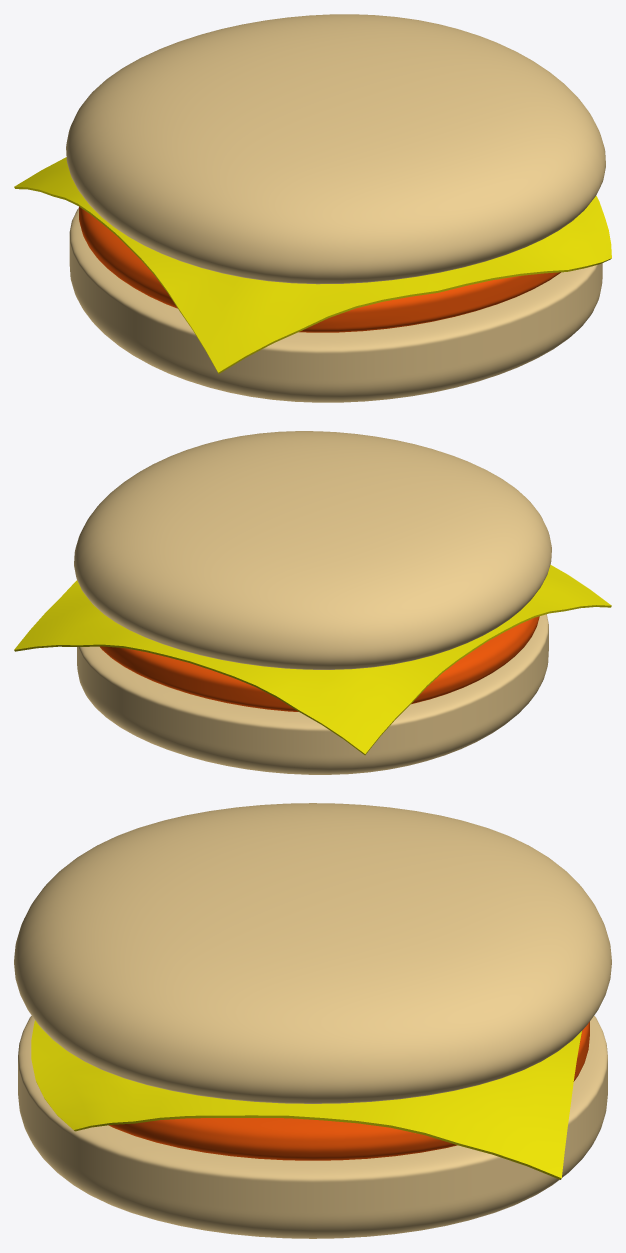
File: burger.glb
3 renders of one model, top to bottom at view 1: azimuth 30°, elevation 25°; view 2: azimuth 150°, elevation 25°; view 3: azimuth 270°, elevation 25°, orthographic. The views are drawn at different scales.
Visible parts, largest first — view 1: Cube.002, Cube, Plane, Cube.001; view 2: Cube.002, Cube, Plane, Cube.001; view 3: Cube.002, Cube, Plane, Cube.001.
Boxes of the visible parts, x1=… form: Cube.002: x1=66, y1=14, x2=605, y2=284; Cube: x1=69, y1=208, x2=602, y2=402; Plane: x1=14, y1=157, x2=611, y2=373; Cube.001: x1=79, y1=207, x2=560, y2=332; Cube.002: x1=74, y1=431, x2=551, y2=669; Cube: x1=77, y1=614, x2=548, y2=774; Plane: x1=14, y1=564, x2=611, y2=755; Cube.001: x1=100, y1=616, x2=539, y2=711; Cube.002: x1=14, y1=803, x2=611, y2=1103; Cube: x1=18, y1=1015, x2=607, y2=1238; Plane: x1=31, y1=1020, x2=581, y2=1179; Cube.001: x1=109, y1=1021, x2=589, y2=1160.
Bounding box in the file's own units: 9.28 × 4.63 × 9.28.
